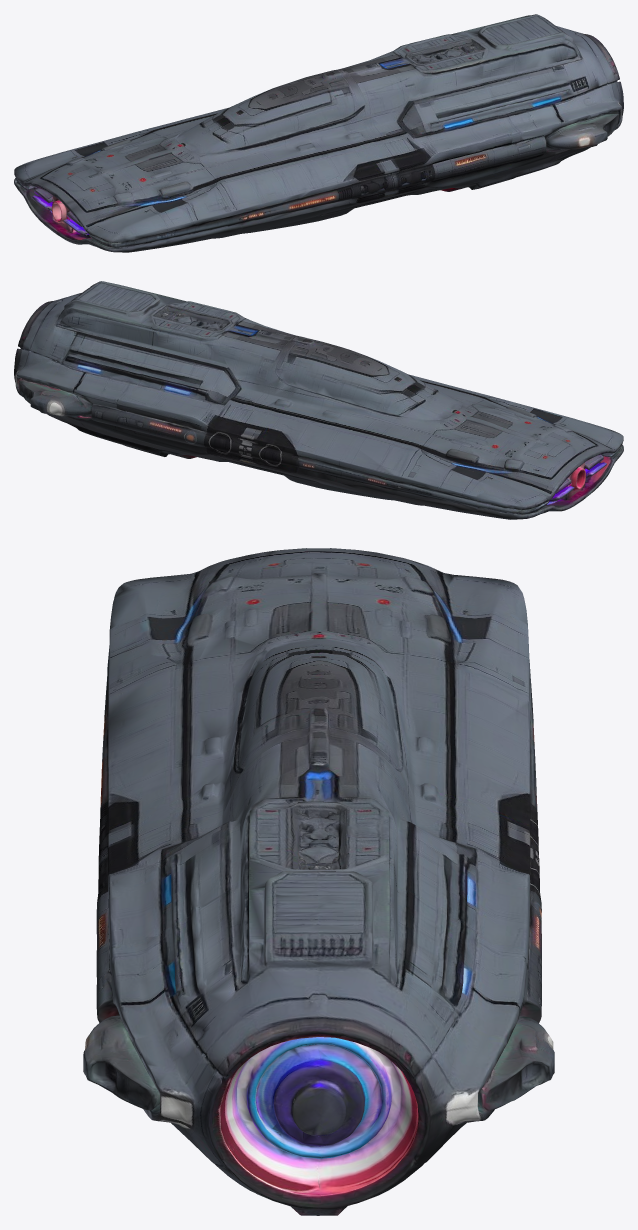
Rendered from torchship.glb.
The picture shows the model from 3 angles, top to bottom: view 1: azimuth 30°, elevation 25°; view 2: azimuth 150°, elevation 25°; view 3: azimuth 270°, elevation 25°; orthographic projection. The views are drawn at different scales.
Bounding box in the file's own units: 120 × 30.24 × 45.19.
Materials: 1 (1 with a texture image).
